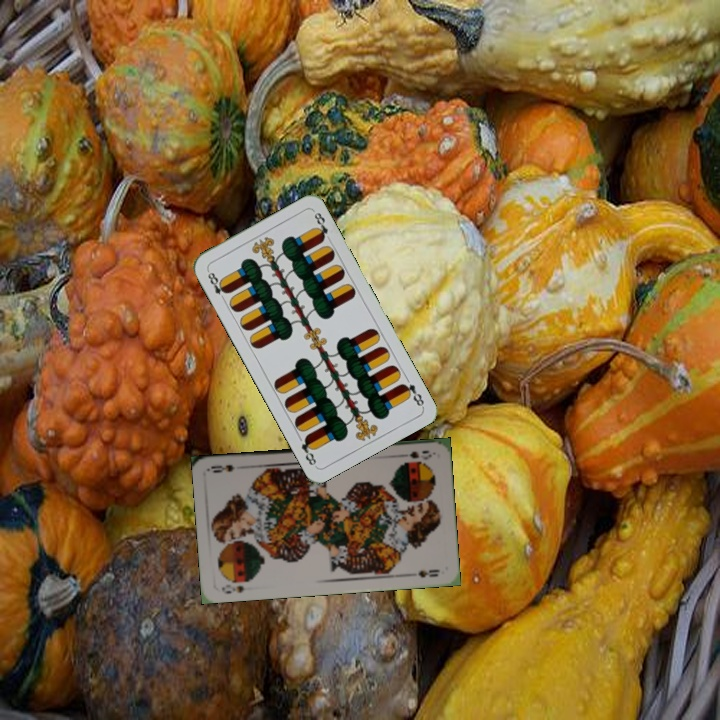E8: (203, 266, 231, 304), (397, 379, 427, 409)
SO: (405, 447, 434, 462), (218, 581, 247, 596)
